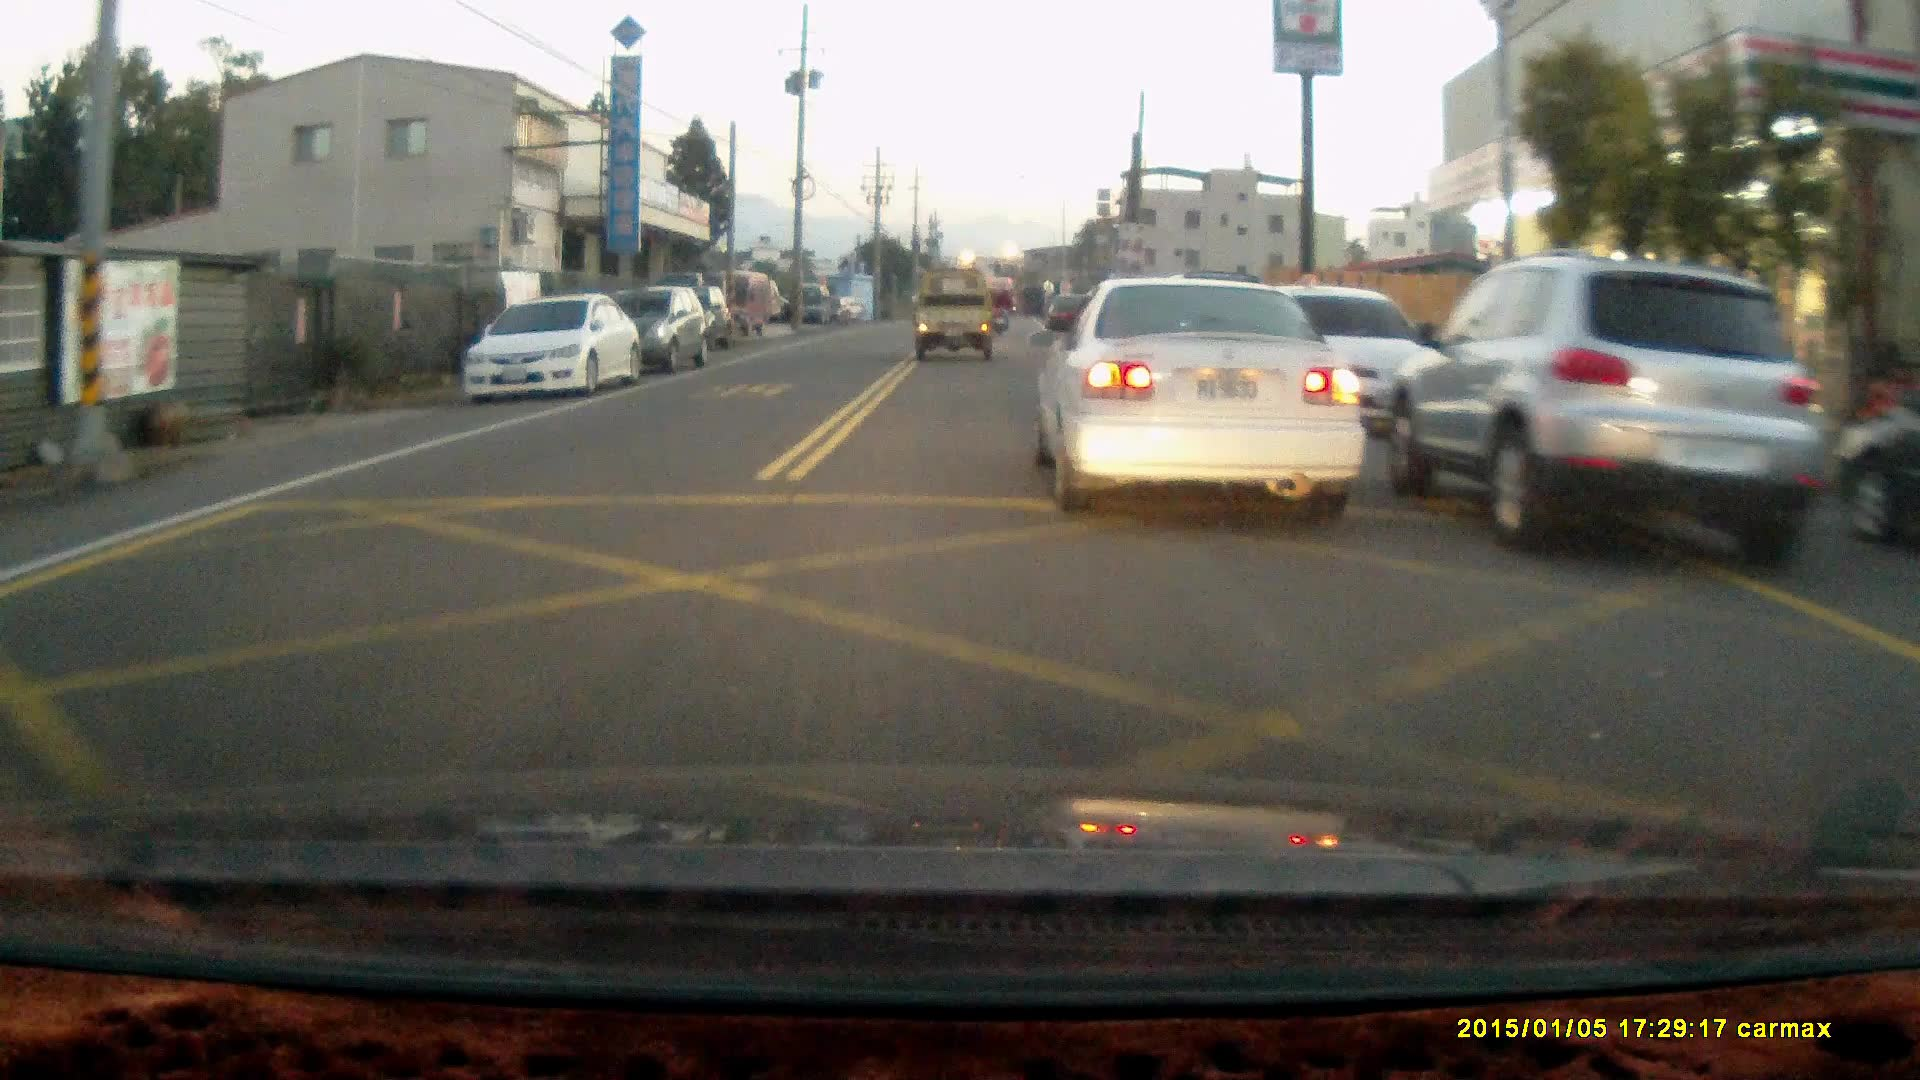rider: (987, 285, 1014, 336)
vehicle: (1382, 263, 1813, 571), (1038, 278, 1367, 515), (465, 296, 641, 413), (599, 295, 711, 382), (912, 270, 999, 366), (634, 285, 733, 360), (714, 272, 778, 341)
